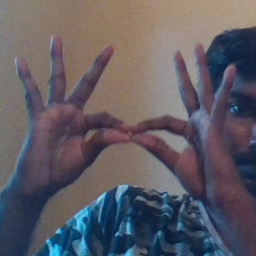B: (67, 82, 205, 188)
